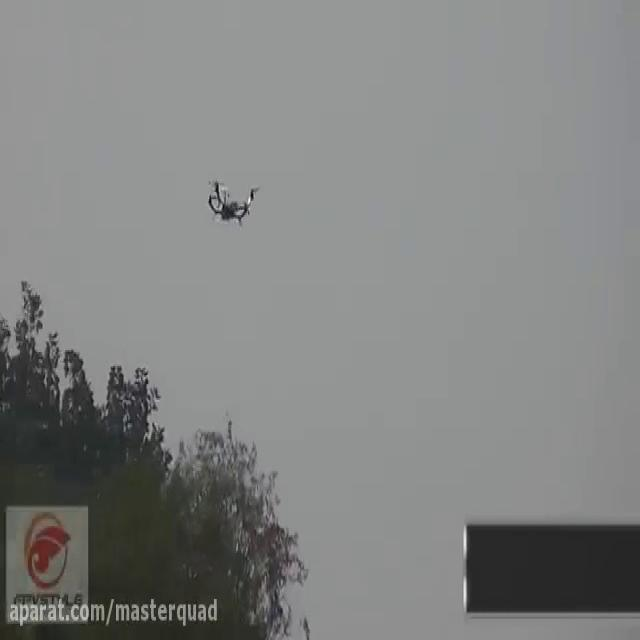drone: (203, 170, 264, 230)
